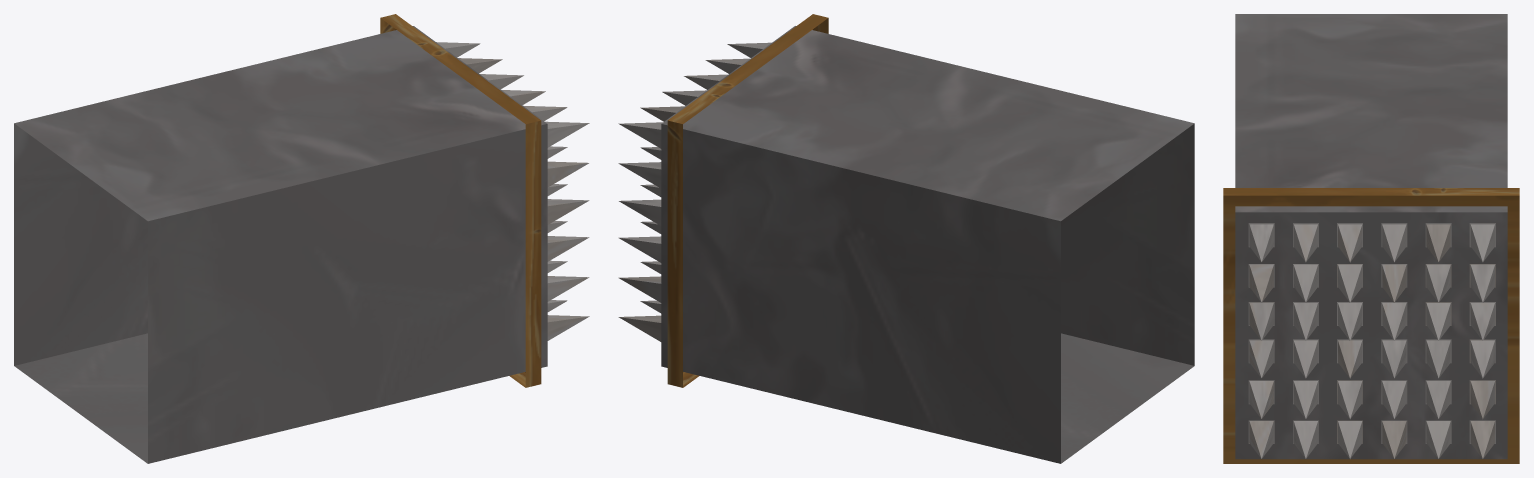
Rendered from Spike.fbx.
3 renders of one model, left to right at view 1: azimuth 30°, elevation 25°; view 2: azimuth 150°, elevation 25°; view 3: azimuth 270°, elevation 25°, orthographic.
Visible parts, largest first — view 1: Spike; view 2: Spike; view 3: Spike.
Part boxes in pixels (box(x1,y1,x2,y2)): Spike: box(14, 14, 589, 463); Spike: box(618, 14, 1194, 463); Spike: box(1223, 14, 1519, 463).
Size of the model in its own units: 63.39 by 35.11 by 35.11.
